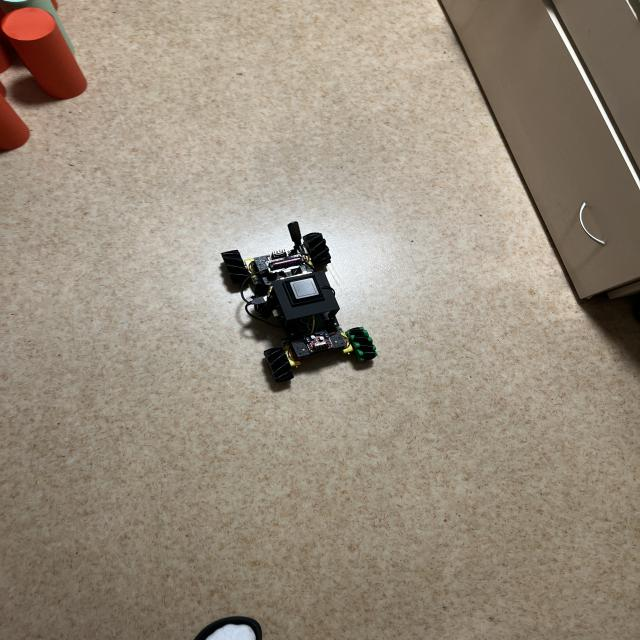robot: (222, 222, 377, 382)
